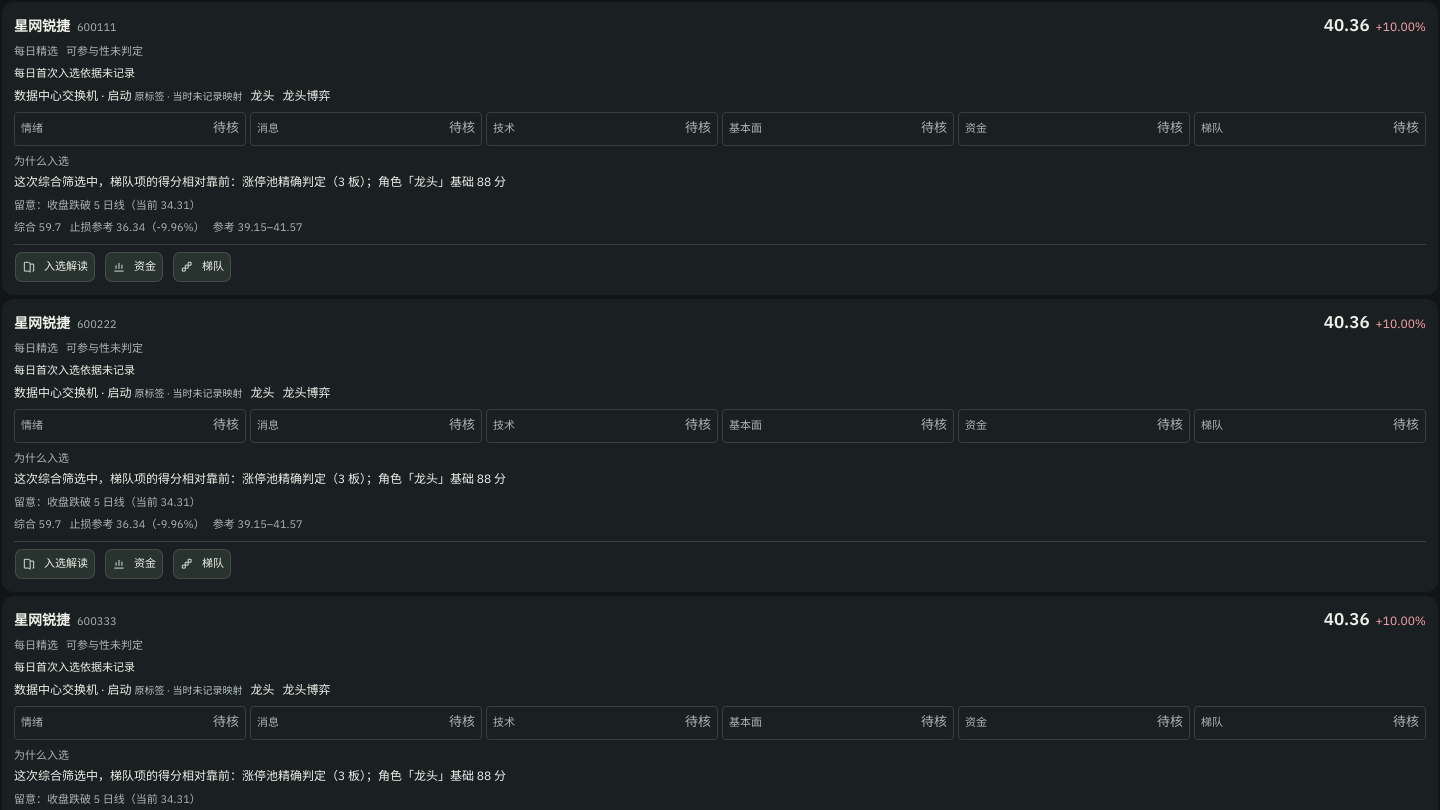
keeps every card short without prefetching company or research and reads only the deliberately opened drawer (compact=true)
Step 1. Click the button "入选解读" below "600222" → (55, 564), box x1=14 y1=548 x2=96 y2=580
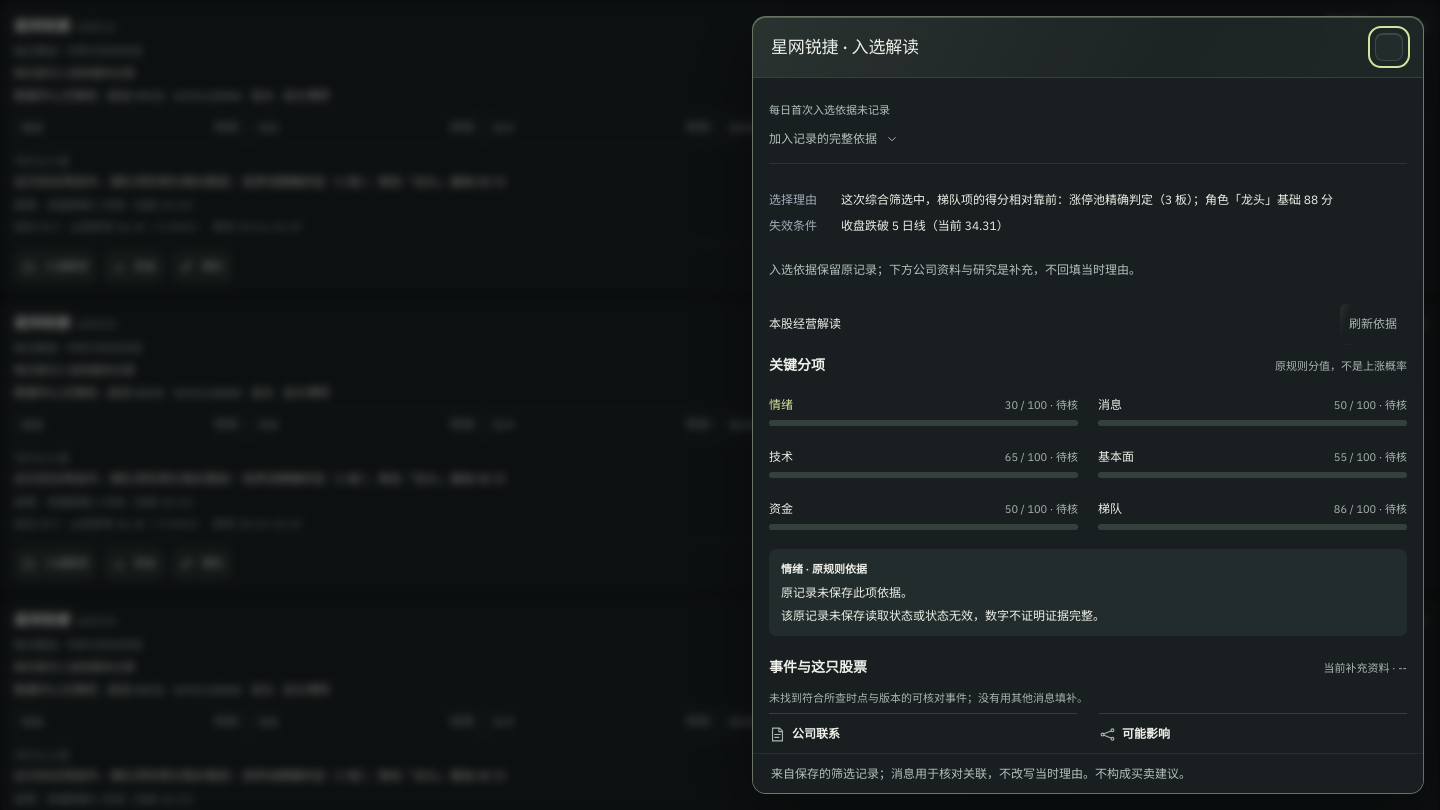
Result: the number of dialogs is 1 at x1=752 y1=16 x2=1424 y2=794
